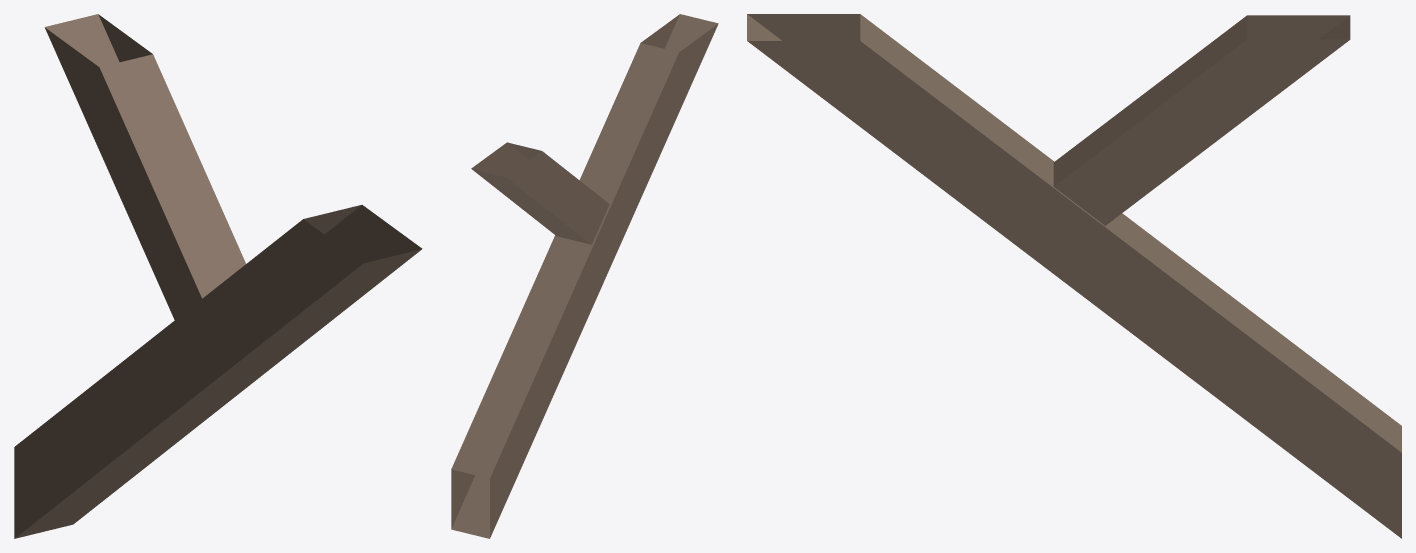
The model's file is support.glb.
3 renders of one model, left to right at view 1: azimuth 30°, elevation 25°; view 2: azimuth 150°, elevation 25°; view 3: azimuth 270°, elevation 25°, orthographic. The views are drawn at different scales.
Visible parts, largest first — view 1: Prop_Support; view 2: Prop_Support; view 3: Prop_Support.
Part boxes in pixels (box(x1,y1,x2,y2)): Prop_Support: box(14, 14, 422, 538); Prop_Support: box(451, 14, 718, 538); Prop_Support: box(747, 14, 1401, 538).
Size of the model in its own units: 0.1986 by 1.71 by 2.04.
